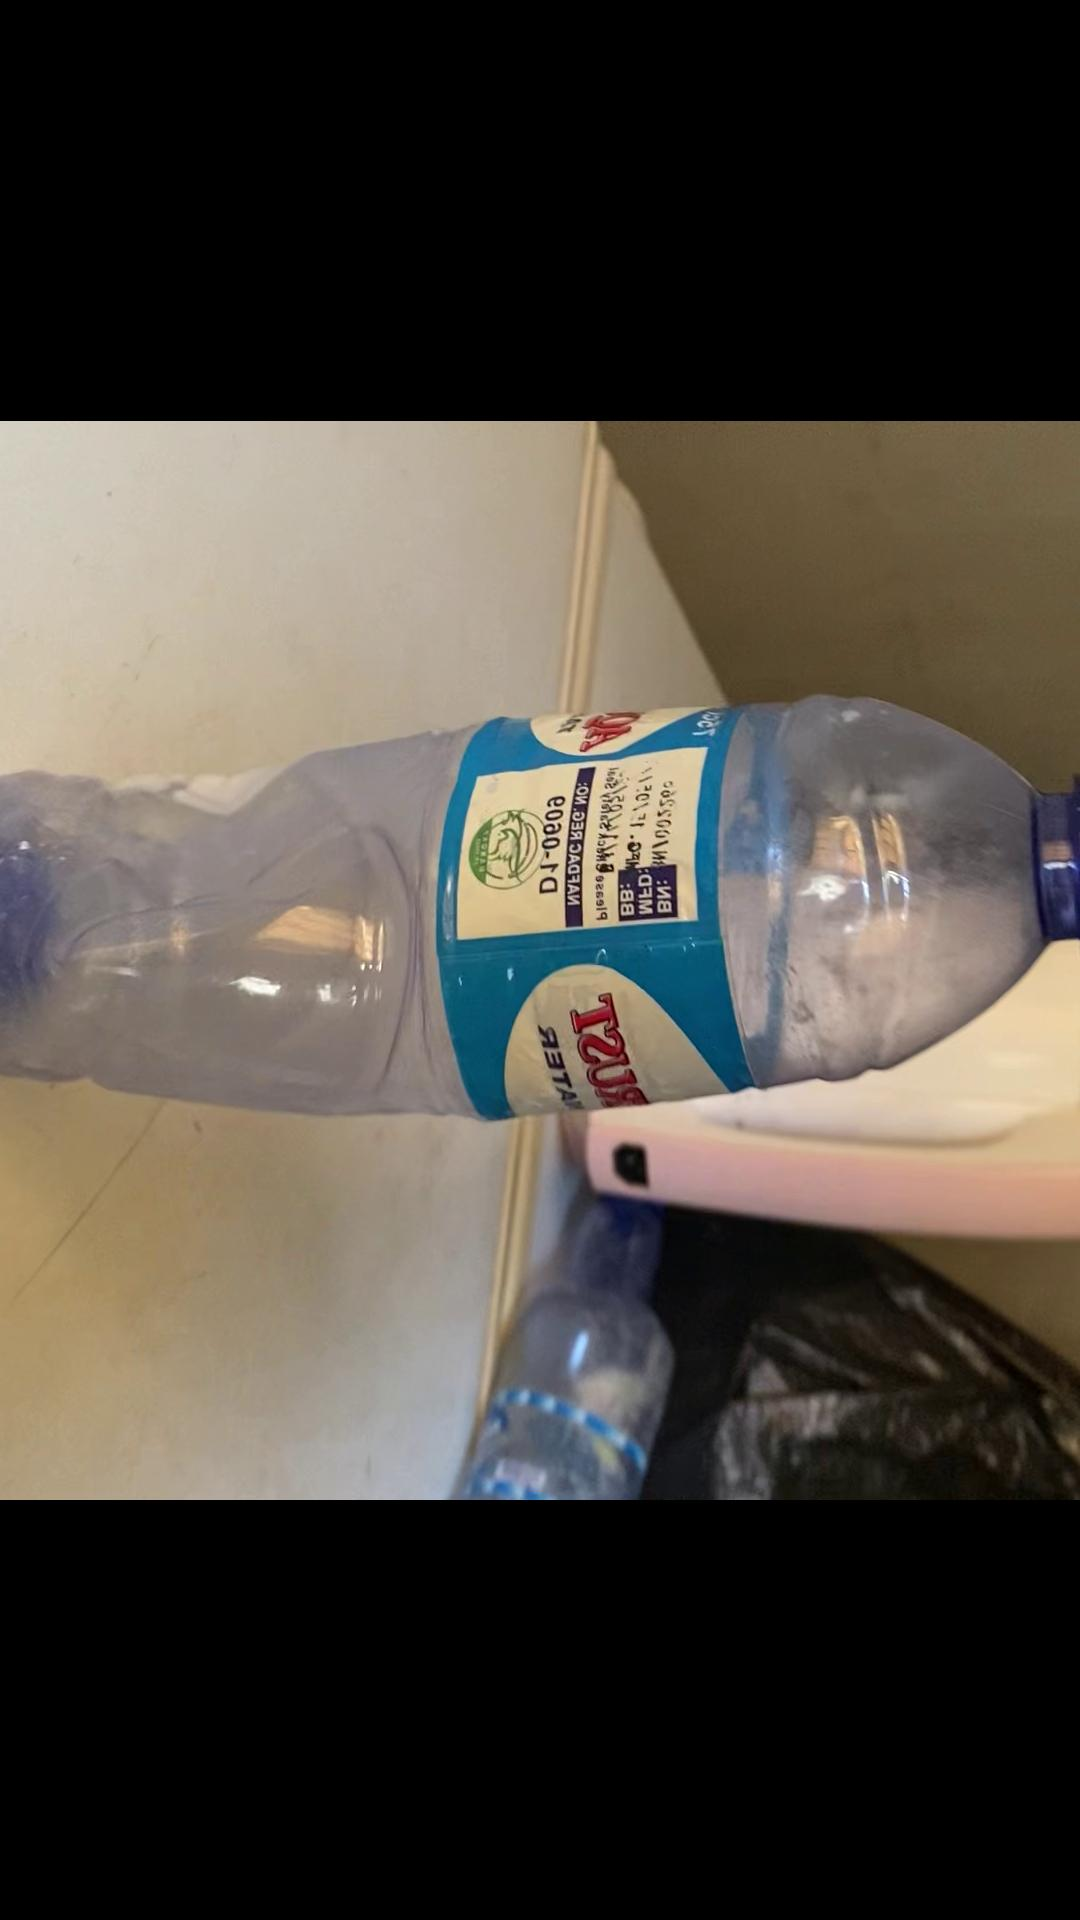crumbled: (0, 673, 1080, 1126)
label: (451, 703, 740, 1100)
